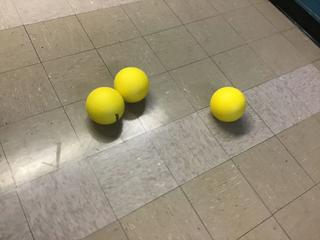power_cell: (85, 85, 127, 127), (114, 64, 154, 105), (209, 87, 246, 126)
